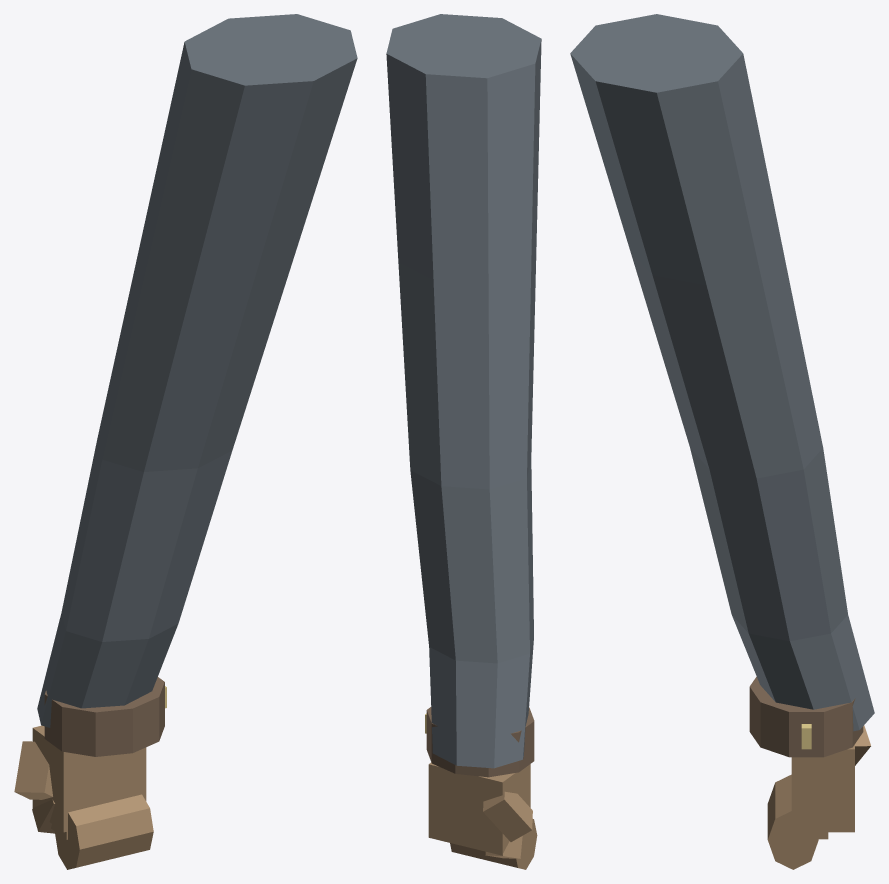
The model's file is first_person_arm.glb.
The picture shows the model from 3 angles, left to right: view 1: azimuth 30°, elevation 25°; view 2: azimuth 150°, elevation 25°; view 3: azimuth 270°, elevation 25°; orthographic projection. The views are drawn at different scales.
Visible parts, largest first — view 1: FirstPersonArm; view 2: FirstPersonArm; view 3: FirstPersonArm.
Part boxes in pixels (<box>): FirstPersonArm: <box>14,14,357,869</box>; FirstPersonArm: <box>386,14,541,869</box>; FirstPersonArm: <box>570,14,874,869</box>.
Size of the model in its own units: 0.173 by 0.5618 by 0.183.
